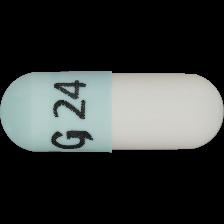55700-325: (0, 0, 224, 224)
